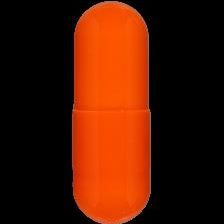68151-2347: (0, 0, 224, 224)
